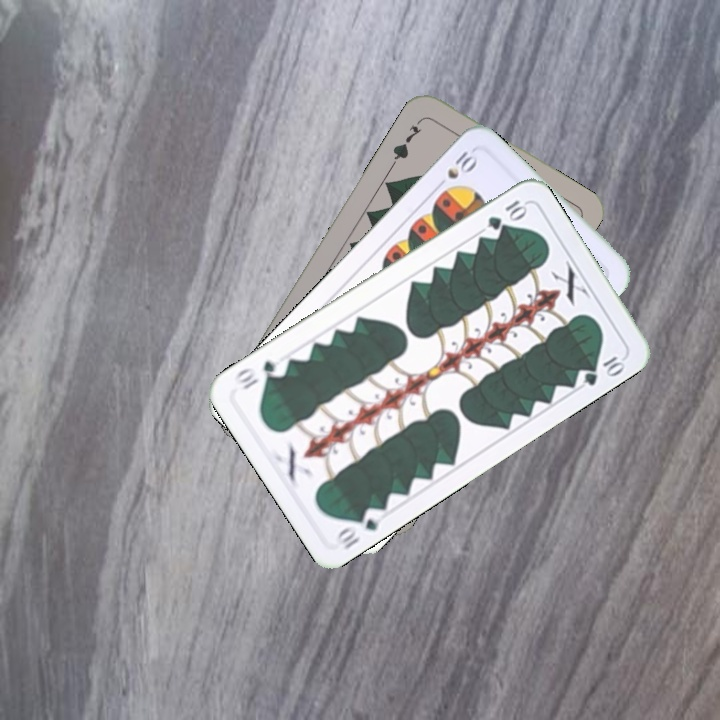G10: (331, 503, 387, 553), (483, 195, 530, 233)
G7: (388, 114, 425, 168)
S10: (443, 144, 482, 182)
